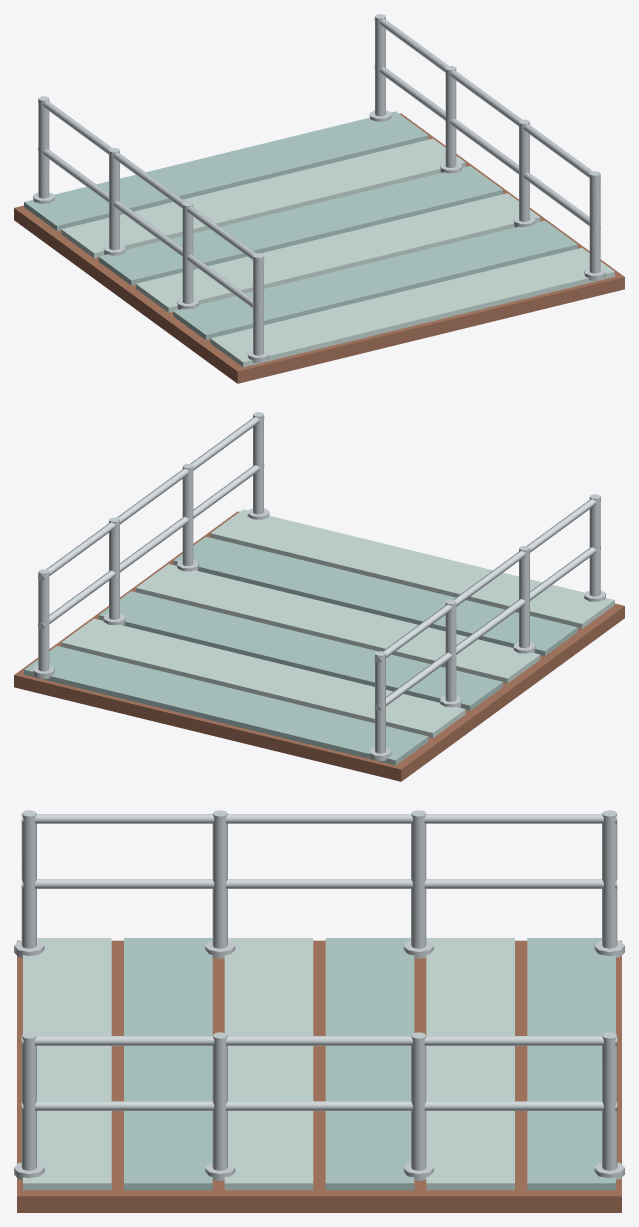
Rendered from path_queue.glb.
3 renders of one model, top to bottom at view 1: azimuth 30°, elevation 25°; view 2: azimuth 150°, elevation 25°; view 3: azimuth 270°, elevation 25°, orthographic. The views are drawn at different scales.
Visible parts, largest first — view 1: path_queue; view 2: path_queue; view 3: path_queue.
Part boxes in pixels (left/top/right/bottom): path_queue: left=14, top=14, right=624, bottom=383; path_queue: left=14, top=412, right=624, bottom=781; path_queue: left=14, top=810, right=624, bottom=1212.
Size of the model in its own units: 3.96 by 1.16 by 4.
